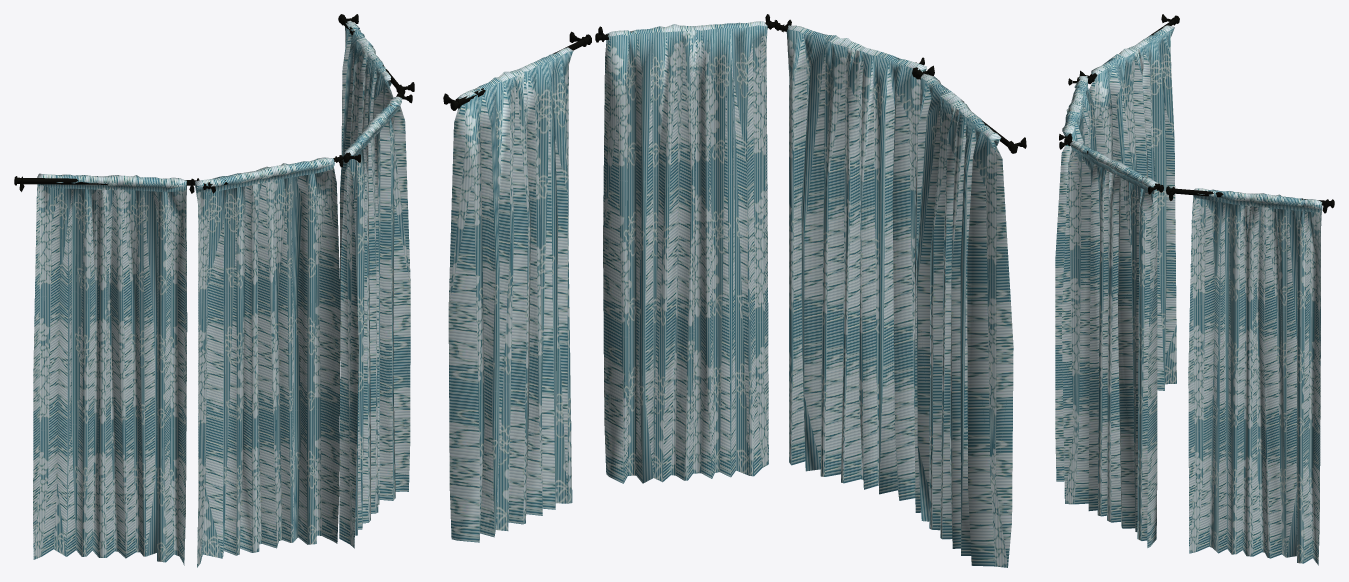
File: 0316CJHUANHLIAN.FBX
3 renders of one model, left to right at view 1: azimuth 30°, elevation 25°; view 2: azimuth 150°, elevation 25°; view 3: azimuth 270°, elevation 25°, orthographic. The views are drawn at different scales.
Visible parts, largest first — view 1: huangllianbj011, huangllianbj016, huangllianbj013, huangllianbj015, Obj3d66-483777-1-919; view 2: huangllianbj013, huangllianbj016, huangllianbj015, huangllianbj011; view 3: huangllianbj015, huangllianbj013, huangllianbj011, huangllianbj016, Obj3d66-483777-1-923.
Boxes of the visible parts, x1,y1,x2,y2 form: huangllianbj011: (33, 173, 187, 565); huangllianbj016: (195, 157, 340, 567); huangllianbj013: (339, 96, 410, 548); huangllianbj015: (339, 20, 393, 324); Obj3d66-483777-1-919: (14, 176, 199, 193); huangllianbj013: (603, 21, 768, 483); huangllianbj016: (786, 25, 926, 500); huangllianbj015: (448, 47, 573, 542); huangllianbj011: (914, 73, 1013, 567); huangllianbj015: (1188, 188, 1322, 565); huangllianbj013: (1061, 140, 1157, 547); huangllianbj011: (1089, 25, 1176, 390); huangllianbj016: (1055, 76, 1096, 481); Obj3d66-483777-1-923: (1166, 186, 1334, 213).
Bounding box in the file's own units: 2987 × 2663 × 1842.
Materials: 2 (1 with a texture image).
